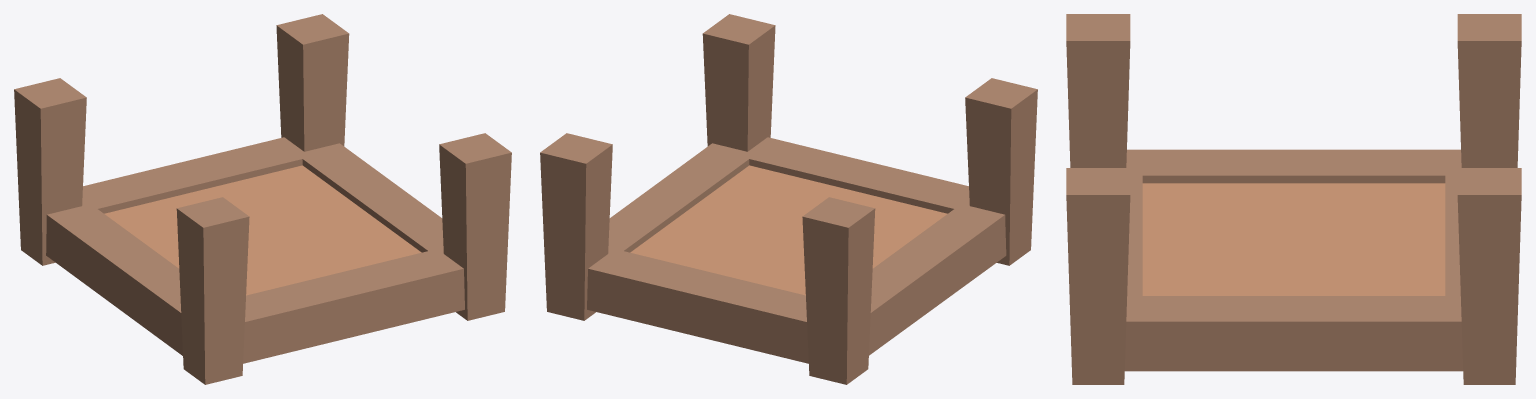
File: bridge_3_part_3.fbx
3 views of the same model, side by side, from view 1: azimuth 30°, elevation 25°; view 2: azimuth 150°, elevation 25°; view 3: azimuth 270°, elevation 25° (orthographic). The views are drawn at different scales.
Visible parts, largest first — view 1: bridge_3_part_3; view 2: bridge_3_part_3; view 3: bridge_3_part_3.
Boxes of the visible parts, box(x1,y1,x2,y2) form: bridge_3_part_3: box(14, 14, 511, 384); bridge_3_part_3: box(540, 14, 1037, 384); bridge_3_part_3: box(1066, 14, 1521, 384).
Size of the model in its own units: 10.11 by 5.01 by 10.75.
